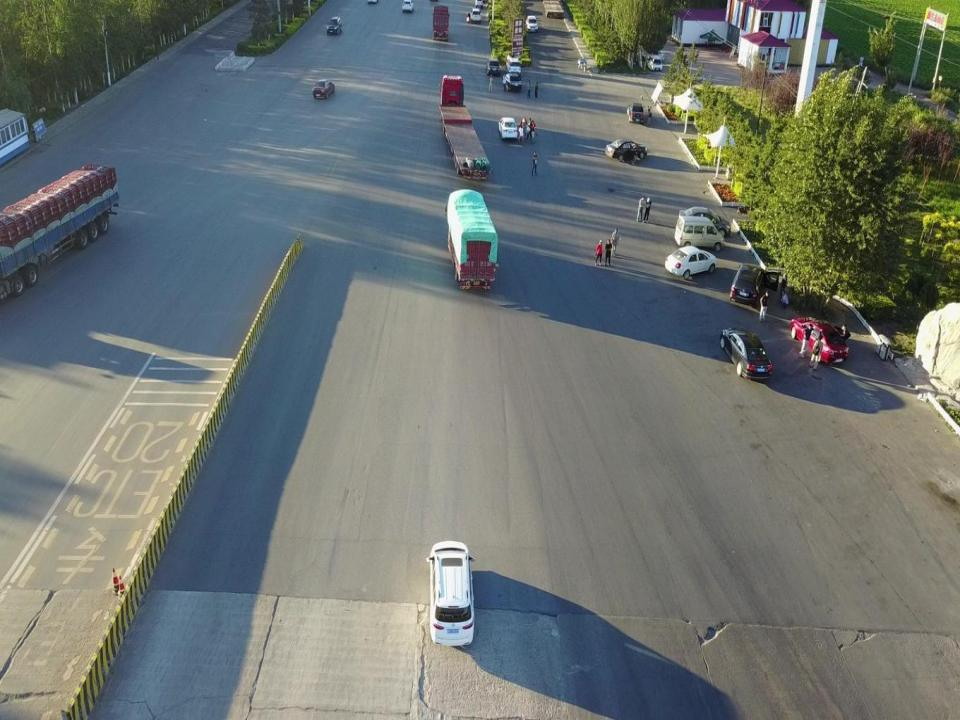car: (790, 316, 850, 364), (719, 328, 773, 381), (664, 246, 716, 279), (679, 206, 731, 238), (605, 139, 647, 162), (498, 117, 518, 140), (312, 80, 335, 100), (503, 72, 522, 92), (627, 103, 645, 123), (640, 48, 664, 63), (486, 60, 500, 76), (526, 15, 538, 31)
truck: (0, 164, 118, 320), (437, 73, 493, 181), (444, 189, 498, 291), (729, 262, 779, 306), (432, 5, 450, 40)
van: (426, 540, 476, 646), (674, 216, 725, 252), (505, 58, 521, 78), (326, 16, 342, 35), (647, 56, 662, 72), (470, 9, 482, 24), (402, 0, 414, 12), (475, 0, 483, 8)
